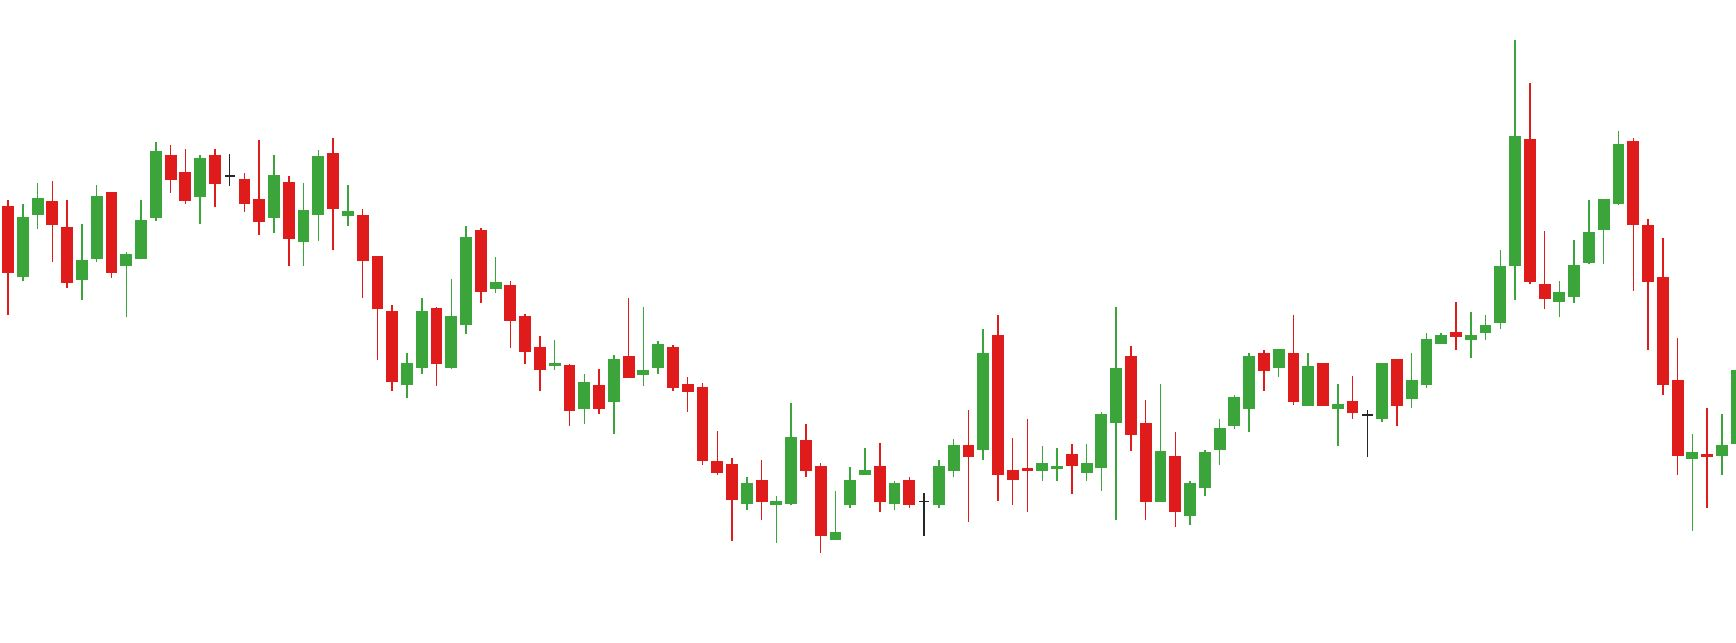buy: (726, 446, 843, 557)
